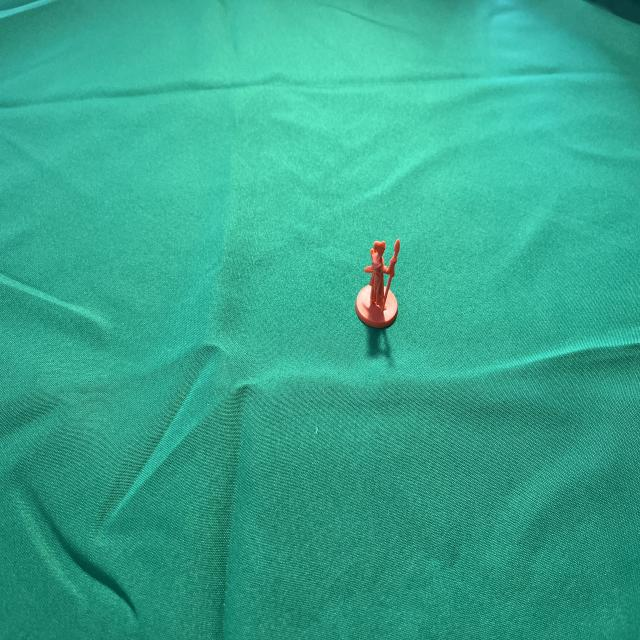amon_follower: (355, 240, 400, 328)
